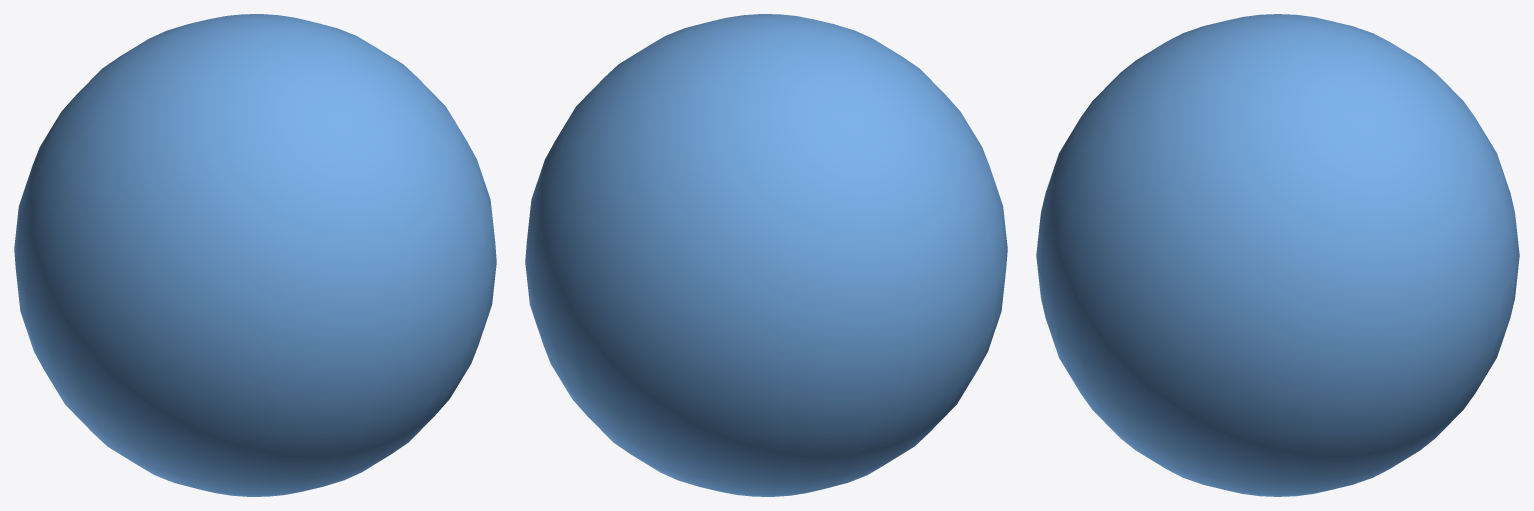
Rendered from SpermWhale.dae.
The picture shows the model from 3 angles, left to right: view 1: azimuth 30°, elevation 25°; view 2: azimuth 150°, elevation 25°; view 3: azimuth 270°, elevation 25°; orthographic projection.
Visible parts, largest first — view 1: Sphere; view 2: Sphere; view 3: Sphere.
Part boxes in pixels (box(x1,y1,x2,y2)): Sphere: box(14, 14, 496, 496); Sphere: box(525, 14, 1007, 496); Sphere: box(1036, 14, 1519, 496).
Size of the model in its own units: 78.25 by 78.25 by 78.25.
